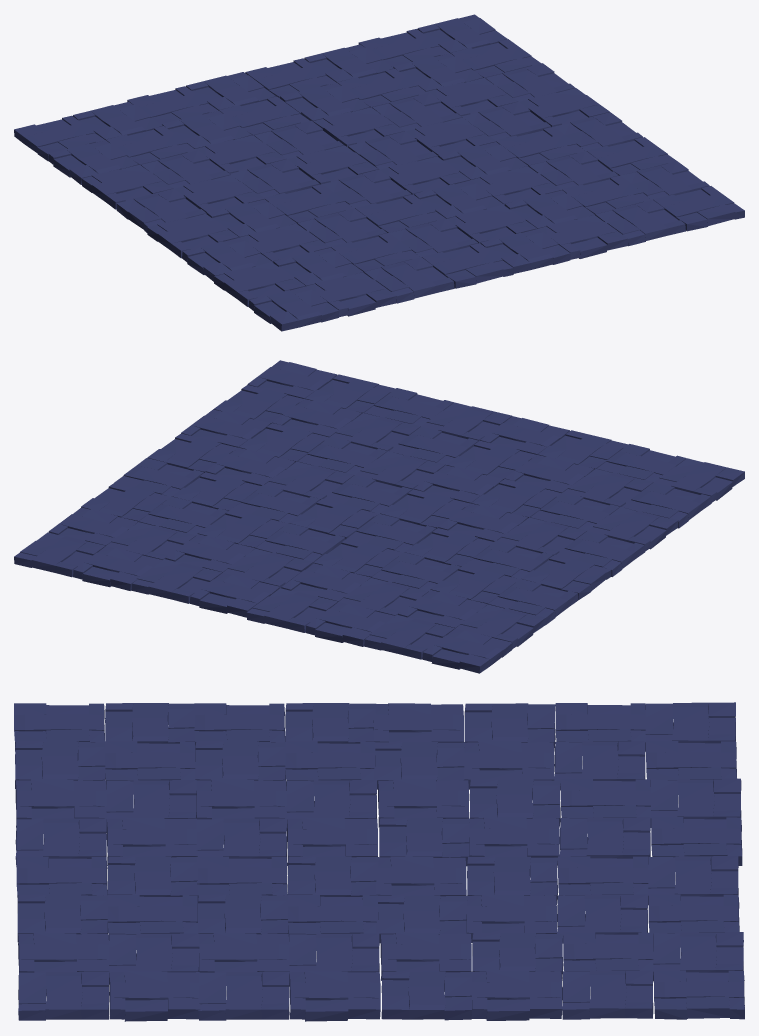
Rendered from Ground_Single64.FBX.
3 views of the same model, one above another, from view 1: azimuth 30°, elevation 25°; view 2: azimuth 150°, elevation 25°; view 3: azimuth 270°, elevation 25° (orthographic). The views are drawn at different scales.
Visible parts, largest first — view 1: Object129; view 2: Object129; view 3: Object129.
Boxes of the visible parts, x1,y1,x2,y2 form: Object129: [14, 14, 744, 331]; Object129: [14, 360, 744, 673]; Object129: [14, 702, 744, 1021].
Size of the model in its own units: 323 by 6.12 by 325.
